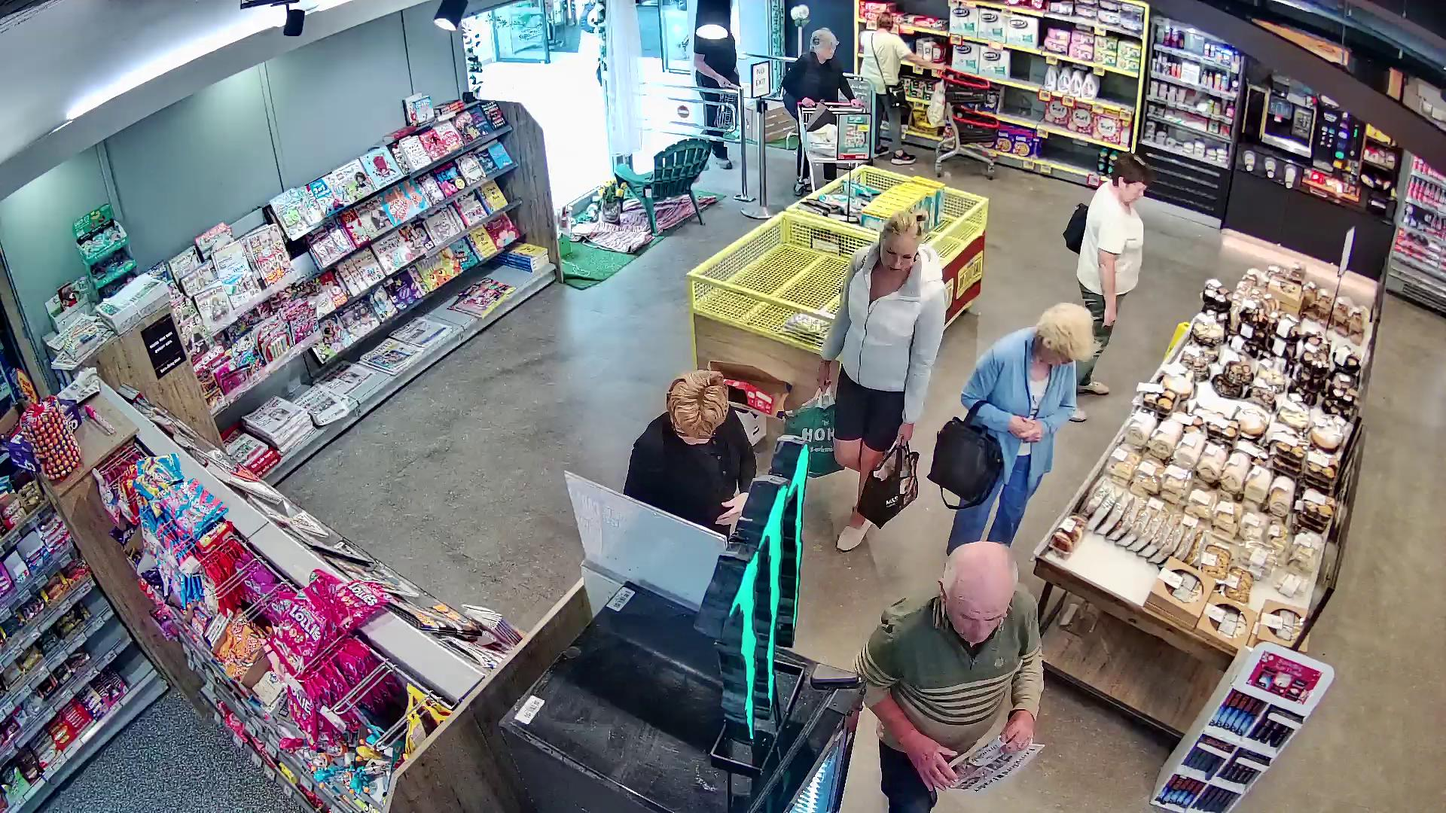backpack-or-handbag: (927, 410, 1004, 509), (1062, 201, 1091, 254), (884, 80, 907, 108)
empty-trolly: (936, 66, 999, 178)
filled-shopping-bags: (782, 390, 852, 478), (856, 440, 920, 529), (926, 76, 945, 127)
filled-trolly: (794, 100, 867, 192)
person: (817, 207, 947, 552), (946, 304, 1099, 550), (1068, 151, 1152, 422), (783, 27, 861, 190)
person-with-backpack-handbag: (927, 304, 1099, 550), (1062, 151, 1153, 421)
person-with-basket-trolly-shopping-bag-s-and-backpack-handbag: (858, 12, 999, 180)
person-with-filled-basket-trolly: (783, 27, 865, 193)
person-with-filled-shopping-bag-s-: (783, 205, 946, 551)
